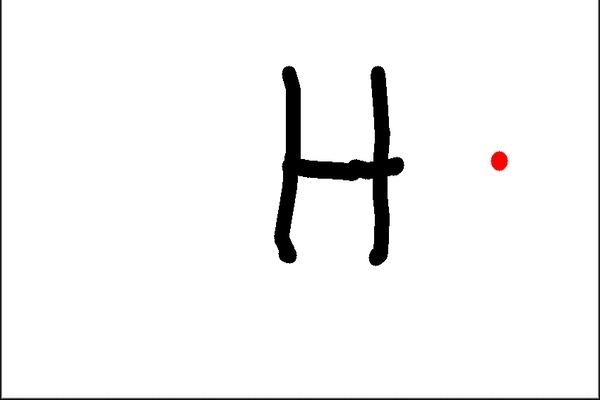H: (266, 60, 408, 274)
